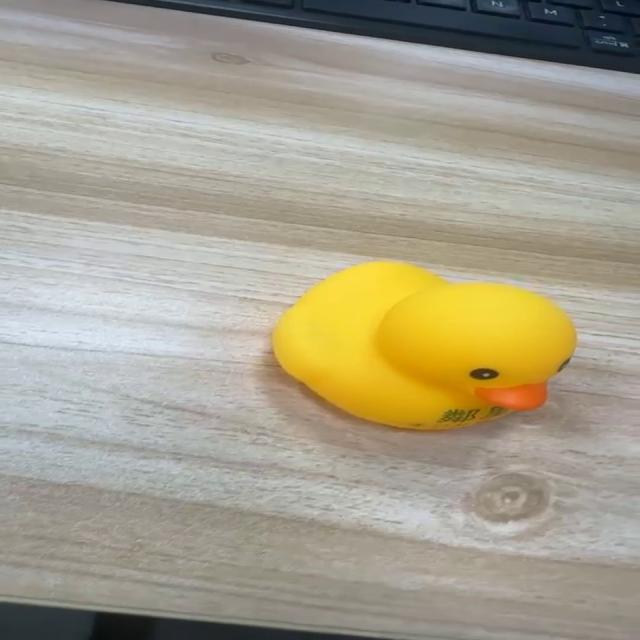yellow_duck: (268, 259, 578, 431)
